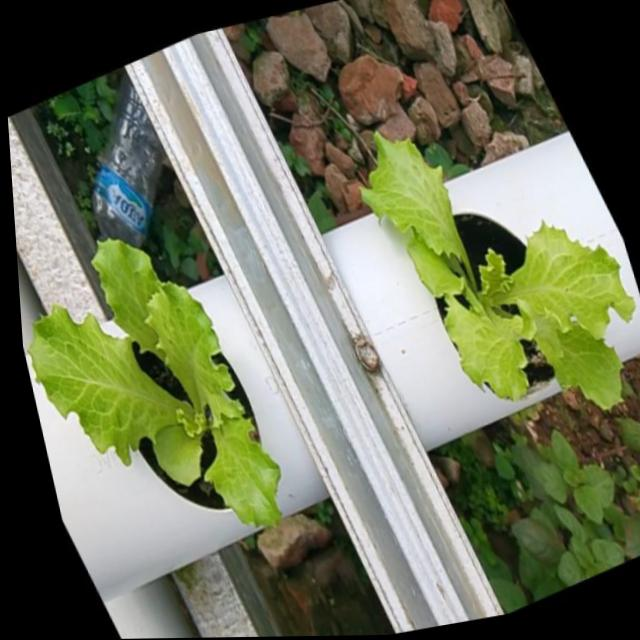Baby: (365, 138, 640, 414), (33, 243, 294, 532)
